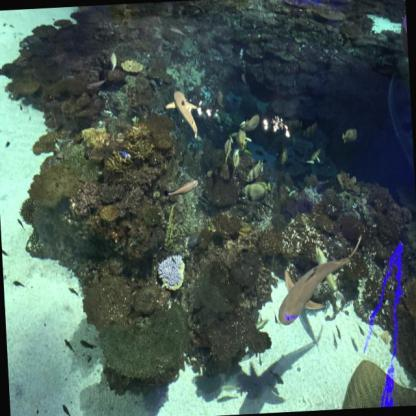fish: (166, 178, 201, 200), (242, 180, 272, 203), (245, 157, 266, 182), (239, 113, 261, 134), (235, 126, 252, 152), (230, 146, 243, 174), (222, 136, 234, 166), (341, 127, 360, 145), (108, 50, 120, 72), (215, 90, 226, 110), (278, 147, 289, 166), (240, 73, 247, 84), (284, 183, 291, 193), (304, 158, 315, 164), (315, 154, 320, 163)
shark: (272, 232, 370, 330), (164, 87, 202, 142)
